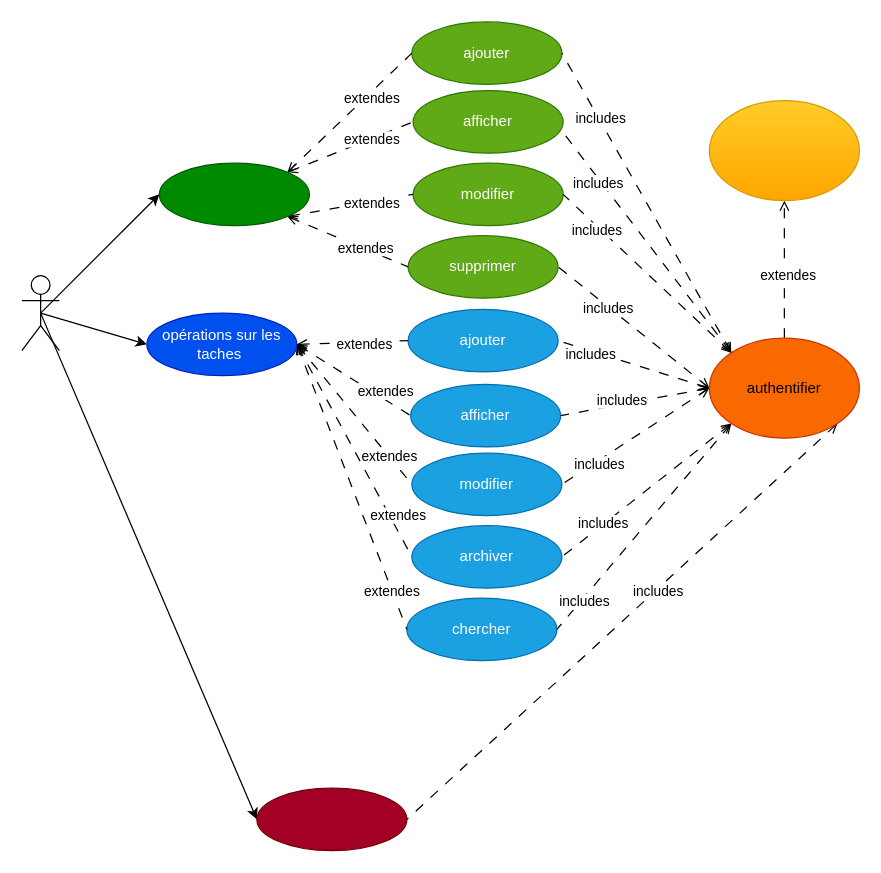
Image size: 881x873. Some labels were removed from this diagram. Here are the shapes that lost their labels. From the top down, the centre of each, then its label:
At point (783, 150): "register".
At point (233, 194): "opérations sur les projets".
At point (40, 312): "Actor".
At point (331, 819): "Statistiques".
